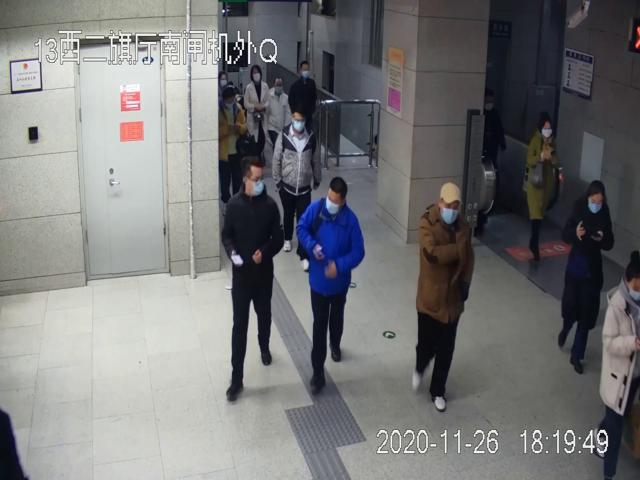person: (221, 154, 283, 400), (296, 177, 366, 394), (413, 182, 475, 411), (559, 179, 613, 374), (272, 105, 322, 272), (524, 110, 560, 261), (243, 62, 270, 152)
